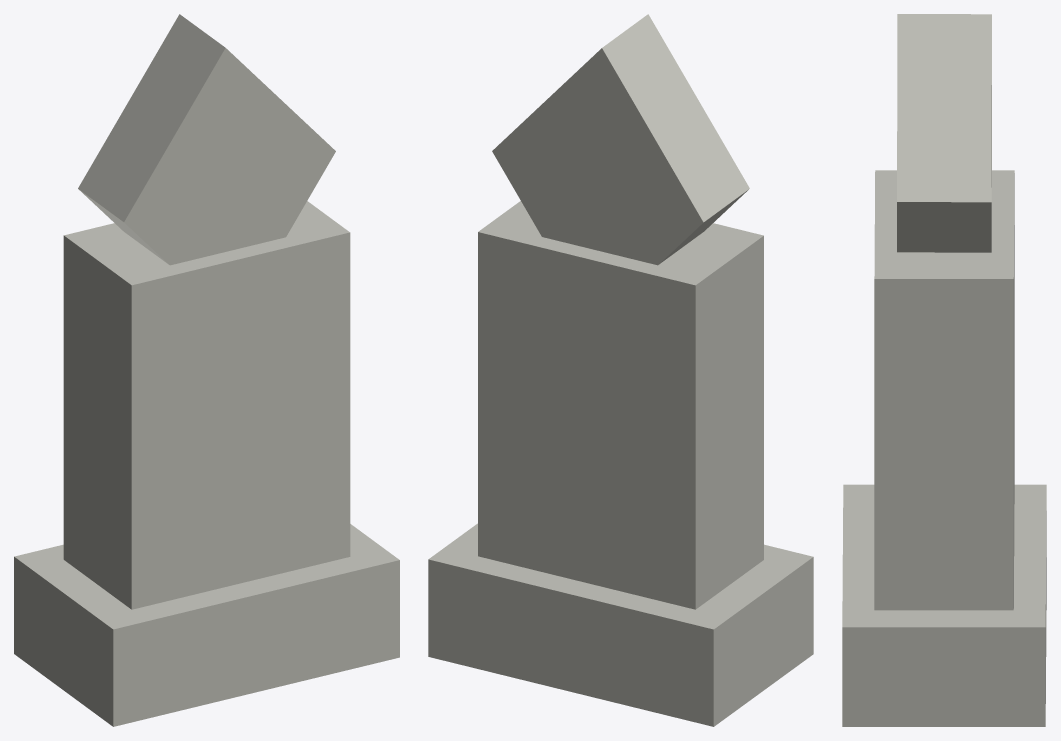
Rendered from cemetary_headstone2.fbx.
The picture shows the model from 3 angles, left to right: view 1: azimuth 30°, elevation 25°; view 2: azimuth 150°, elevation 25°; view 3: azimuth 270°, elevation 25°; orthographic projection. The views are drawn at different scales.
Visible parts, largest first — view 1: polySurface1349; view 2: polySurface1349; view 3: polySurface1349.
Boxes of the visible parts, box(x1,y1,x2,y2) form: polySurface1349: box(14, 14, 399, 726); polySurface1349: box(428, 14, 813, 726); polySurface1349: box(842, 14, 1046, 726).
Size of the model in its own units: 13.22 by 27.61 by 8.
Materials: 1 (1 with a texture image).
